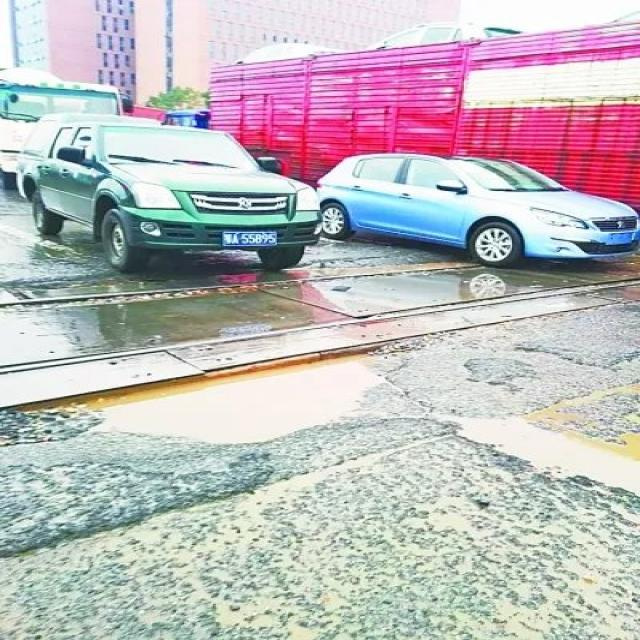Pothole: (32, 358, 408, 454), (440, 404, 638, 521)
